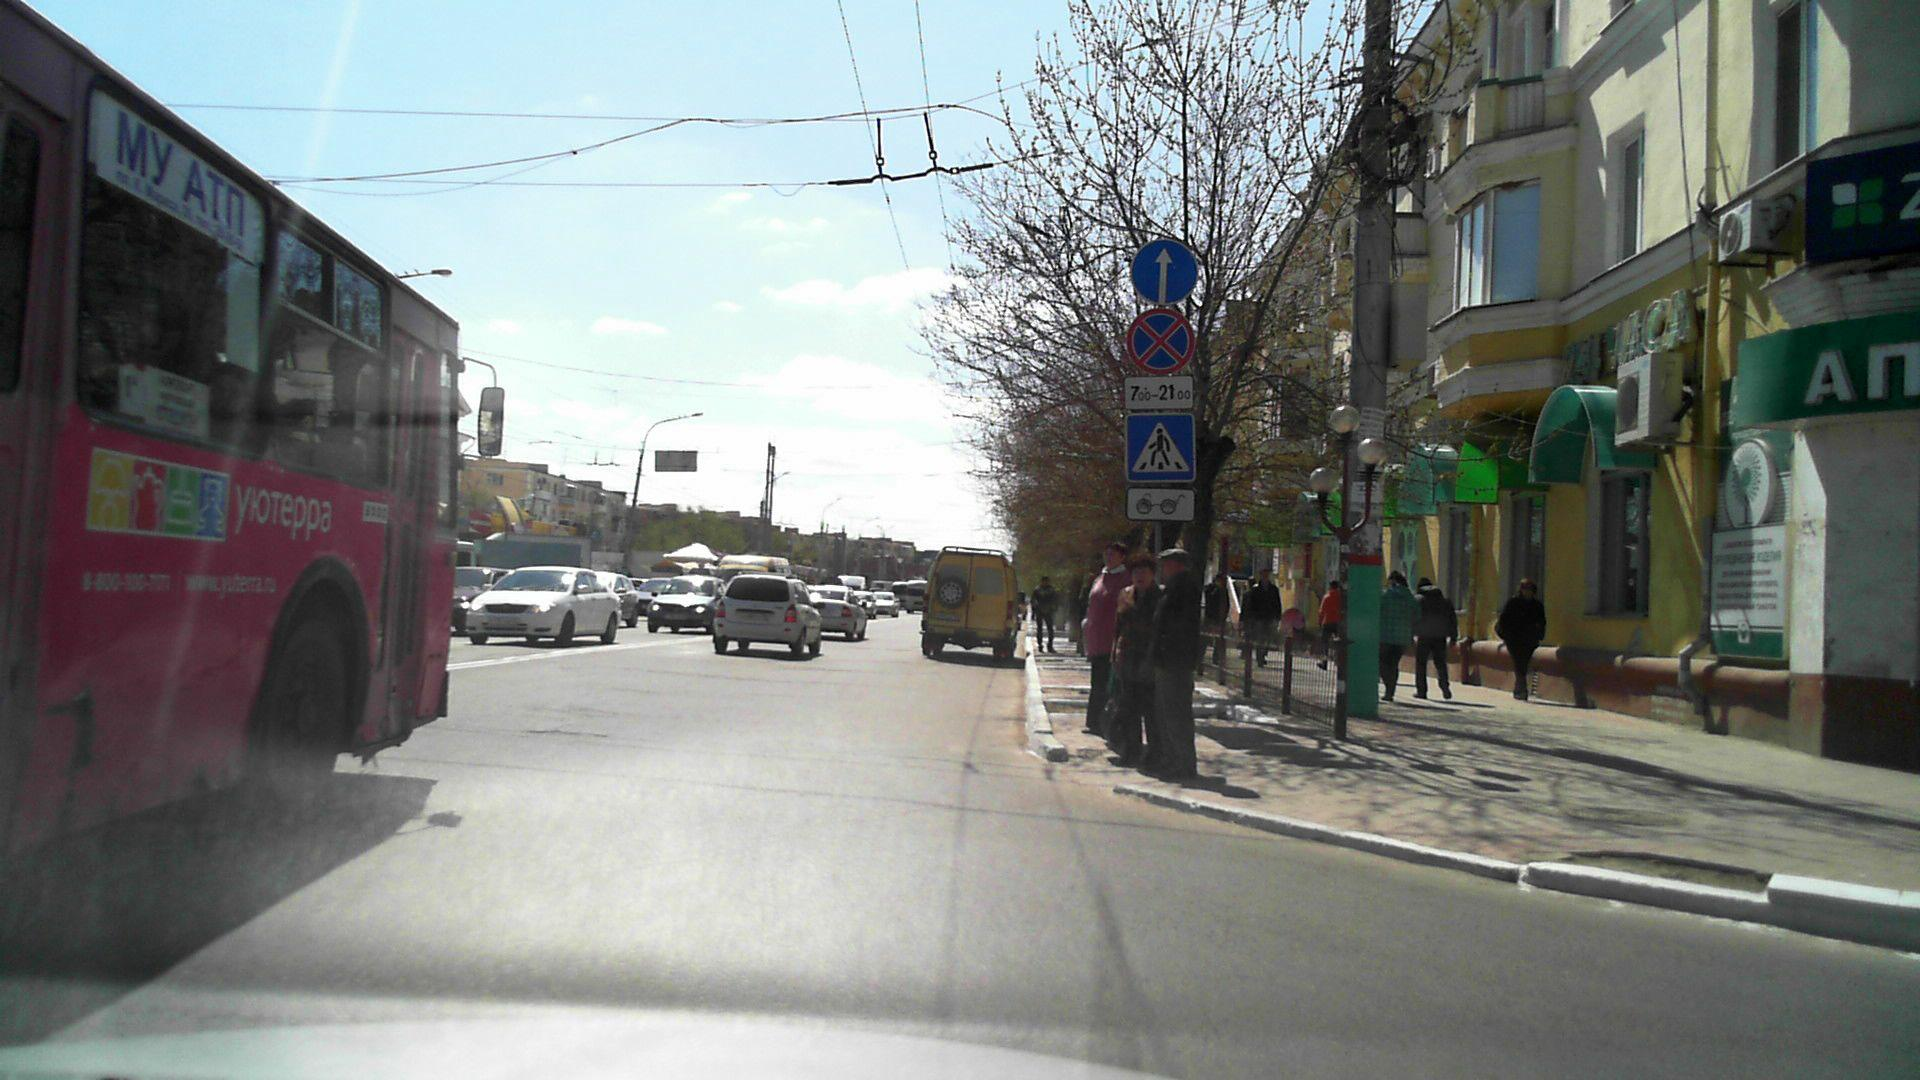3_27: (1127, 311, 1195, 372)
4_1_1: (1129, 237, 1200, 305)
5_19_1: (1124, 414, 1196, 481)
8_15: (1126, 487, 1196, 524)
8_5_4: (1124, 377, 1195, 407)
